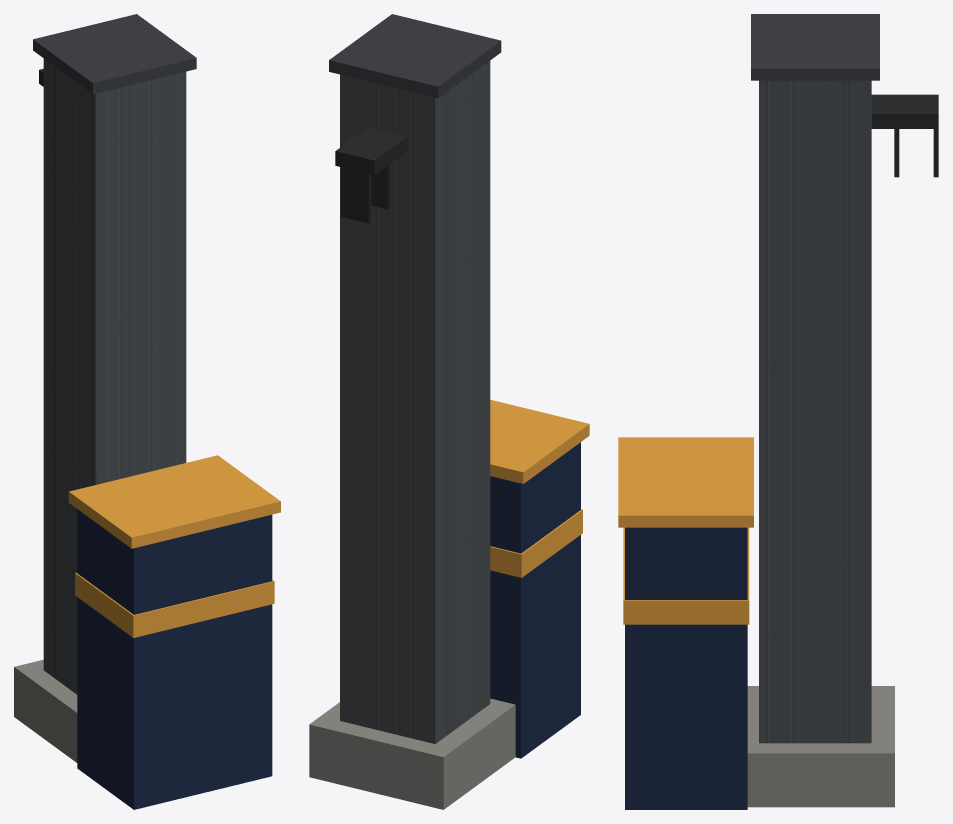
File: MinidoracatKnoxPass_slidemotor1_A.glb
3 renders of one model, left to right at view 1: azimuth 30°, elevation 25°; view 2: azimuth 150°, elevation 25°; view 3: azimuth 270°, elevation 25°, orthographic. The views are drawn at different scales.
Visible parts, largest first — view 1: MinidoracatKnoxPass_slidemotor1_A; view 2: MinidoracatKnoxPass_slidemotor1_A; view 3: MinidoracatKnoxPass_slidemotor1_A.
Part boxes in pixels (left/top/right/bottom): MinidoracatKnoxPass_slidemotor1_A: left=14, top=14, right=280, bottom=809; MinidoracatKnoxPass_slidemotor1_A: left=309, top=14, right=589, bottom=809; MinidoracatKnoxPass_slidemotor1_A: left=618, top=14, right=938, bottom=809.
Size of the model in its own units: 0.56 by 2.44 by 0.967.
Materials: 1 (1 with a texture image).
